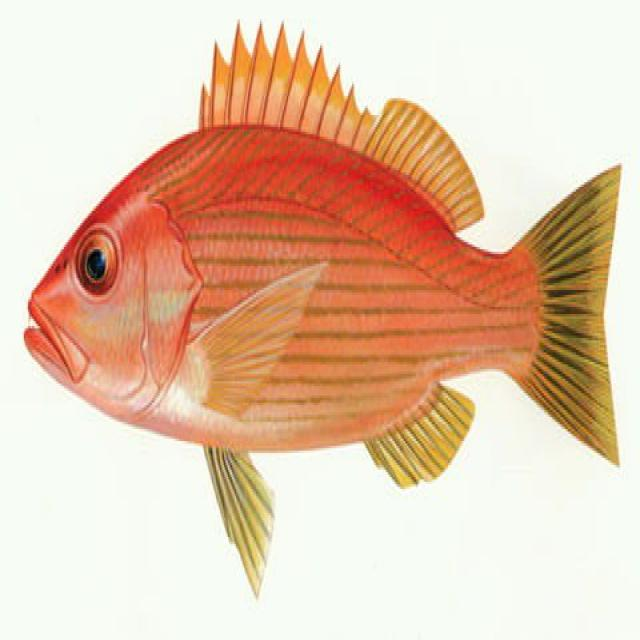ikan: (21, 17, 623, 597)
